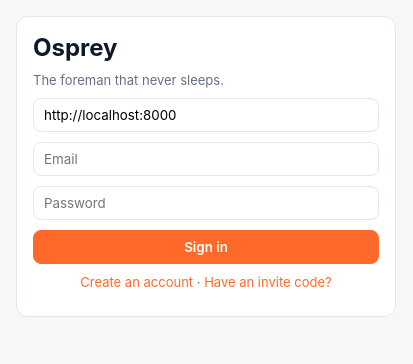
Test: Login › surfaces a failed sign-in instead of failing silently
The width and height of the screenshot is (413, 364).
Expected: the button "Sign in" is shown, [33, 230, 379, 264]
Type "a@b.com" into the field with placeholder "Email". click: (206, 159)
box: [33, 142, 379, 176]
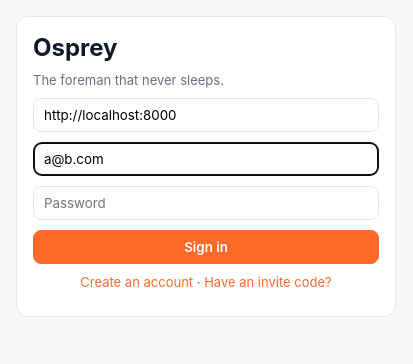
Type "wrong-password" into the password field with placeholder "Password". click: (206, 203)
box: [33, 186, 379, 220]
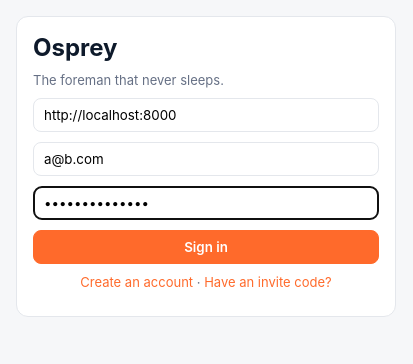
Click the button "Sign in". click: (206, 247)
box: [33, 230, 379, 264]
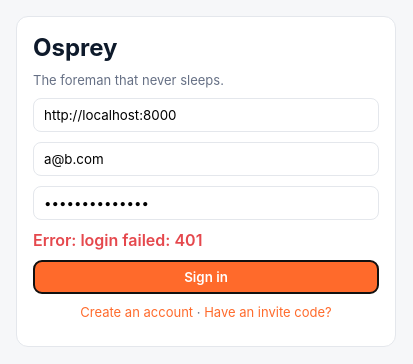
Expected: the text "Error: login failed: 401" is shown, [33, 230, 202, 250]
